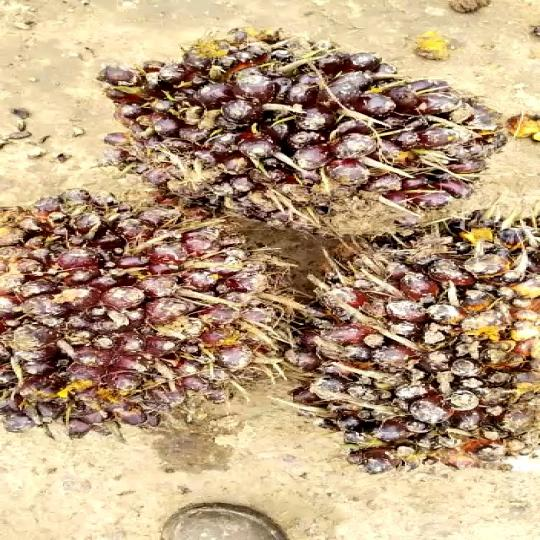kurang masak: (80, 26, 502, 232), (0, 181, 305, 446), (295, 204, 540, 497)
